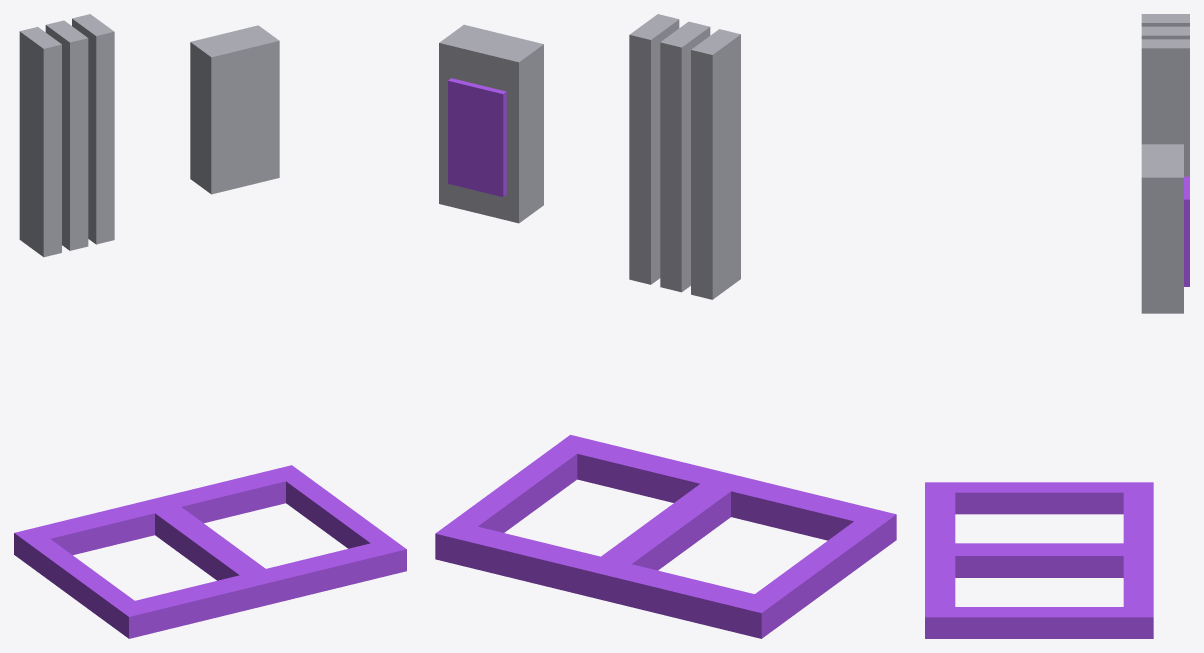
Rendered from equipment_modules.obj.
3 views of the same model, side by side, from view 1: azimuth 30°, elevation 25°; view 2: azimuth 150°, elevation 25°; view 3: azimuth 270°, elevation 25° (orthographic). The views are drawn at different scales.
Visible parts, largest first — view 1: overloadcore_coupler_body_cap, overloadcore_heat_sink_body_fin0, overloadcore_heat_sink_body_fin1, overloadcore_heat_sink_body_fin2, overloadcore_magnetic_right_leg_ring1, overloadcore_magnetic_left_leg_ring1, overloadcore_magnetic_right_leg_ring0, overloadcore_magnetic_left_leg_ring0, overloadcore_magnetic_right_leg_ring2, overloadcore_magnetic_left_leg_ring3, overloadcore_magnetic_right_leg_ring3, overloadcore_magnetic_left_leg_ring2; view 2: overloadcore_heat_sink_body_fin0, overloadcore_coupler_body_cap, overloadcore_heat_sink_body_fin2, overloadcore_heat_sink_body_fin1, overloadcore_magnetic_right_leg_ring0, overloadcore_magnetic_left_leg_ring0, overloadcore_magnetic_right_leg_ring1, overloadcore_coupler_body_led, overloadcore_magnetic_left_leg_ring1, overloadcore_magnetic_right_leg_ring2, overloadcore_magnetic_left_leg_ring3, overloadcore_magnetic_right_leg_ring3 (+1 smaller); view 3: overloadcore_coupler_body_cap, overloadcore_magnetic_right_leg_ring2, overloadcore_magnetic_left_leg_ring3, overloadcore_heat_sink_body_fin2, overloadcore_magnetic_left_leg_ring2, overloadcore_magnetic_left_leg_ring0, overloadcore_magnetic_left_leg_ring1, overloadcore_magnetic_right_leg_ring0, overloadcore_magnetic_right_leg_ring1, overloadcore_magnetic_right_leg_ring3, overloadcore_heat_sink_body_fin1, overloadcore_coupler_body_led (+1 smaller).
Part boxes in pixels (x1,y1,x2,y2): overloadcore_coupler_body_cap: [190, 25, 279, 194]; overloadcore_heat_sink_body_fin0: [19, 27, 61, 257]; overloadcore_heat_sink_body_fin1: [45, 20, 88, 250]; overloadcore_heat_sink_body_fin2: [72, 14, 114, 244]; overloadcore_magnetic_right_leg_ring1: [114, 570, 275, 638]; overloadcore_magnetic_left_leg_ring1: [260, 538, 406, 606]; overloadcore_magnetic_right_leg_ring0: [14, 501, 175, 565]; overloadcore_magnetic_left_leg_ring0: [145, 465, 306, 523]; overloadcore_magnetic_right_leg_ring2: [29, 539, 134, 627]; overloadcore_magnetic_left_leg_ring3: [286, 476, 391, 548]; overloadcore_magnetic_right_leg_ring3: [155, 510, 260, 580]; overloadcore_magnetic_left_leg_ring2: [163, 507, 265, 569]; overloadcore_heat_sink_body_fin0: [691, 29, 740, 299]; overloadcore_coupler_body_cap: [439, 24, 543, 223]; overloadcore_heat_sink_body_fin2: [629, 14, 679, 284]; overloadcore_heat_sink_body_fin1: [660, 21, 710, 292]; overloadcore_magnetic_right_leg_ring0: [589, 558, 779, 638]; overloadcore_magnetic_left_leg_ring0: [435, 520, 607, 596]; overloadcore_magnetic_right_leg_ring1: [707, 472, 896, 552]; overloadcore_coupler_body_led: [448, 78, 506, 196]; overloadcore_magnetic_left_leg_ring1: [553, 435, 723, 502]; overloadcore_magnetic_right_leg_ring2: [755, 521, 878, 625]; overloadcore_magnetic_left_leg_ring3: [453, 447, 577, 532]; overloadcore_magnetic_right_leg_ring3: [607, 485, 730, 570]; overloadcore_coupler_body_cap: [1141, 144, 1183, 313]; overloadcore_magnetic_right_leg_ring2: [955, 482, 1123, 514]; overloadcore_magnetic_left_leg_ring3: [955, 607, 1123, 638]; overloadcore_heat_sink_body_fin2: [1141, 39, 1189, 176]; overloadcore_magnetic_left_leg_ring2: [955, 553, 1123, 577]; overloadcore_magnetic_left_leg_ring0: [1123, 553, 1153, 638]; overloadcore_magnetic_left_leg_ring1: [925, 553, 955, 638]; overloadcore_magnetic_right_leg_ring0: [1123, 482, 1153, 553]; overloadcore_magnetic_right_leg_ring1: [925, 482, 955, 553]; overloadcore_magnetic_right_leg_ring3: [955, 543, 1123, 553]; overloadcore_heat_sink_body_fin1: [1141, 26, 1189, 39]; overloadcore_coupler_body_led: [1184, 176, 1189, 286].
Size of the model in its own units: 0.53 by 0.92 by 0.44.
